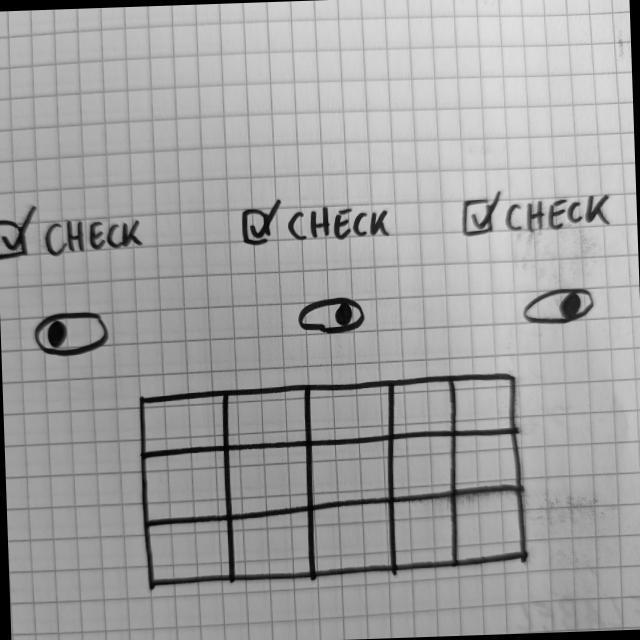checkbox: (1, 198, 147, 265), (241, 195, 396, 253), (461, 186, 617, 240)
table: (136, 372, 529, 591)
toggle: (32, 307, 111, 361), (519, 286, 598, 330), (296, 295, 369, 338)
